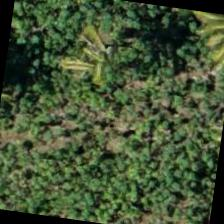Kelapa_Sawit: (45, 11, 147, 113)
